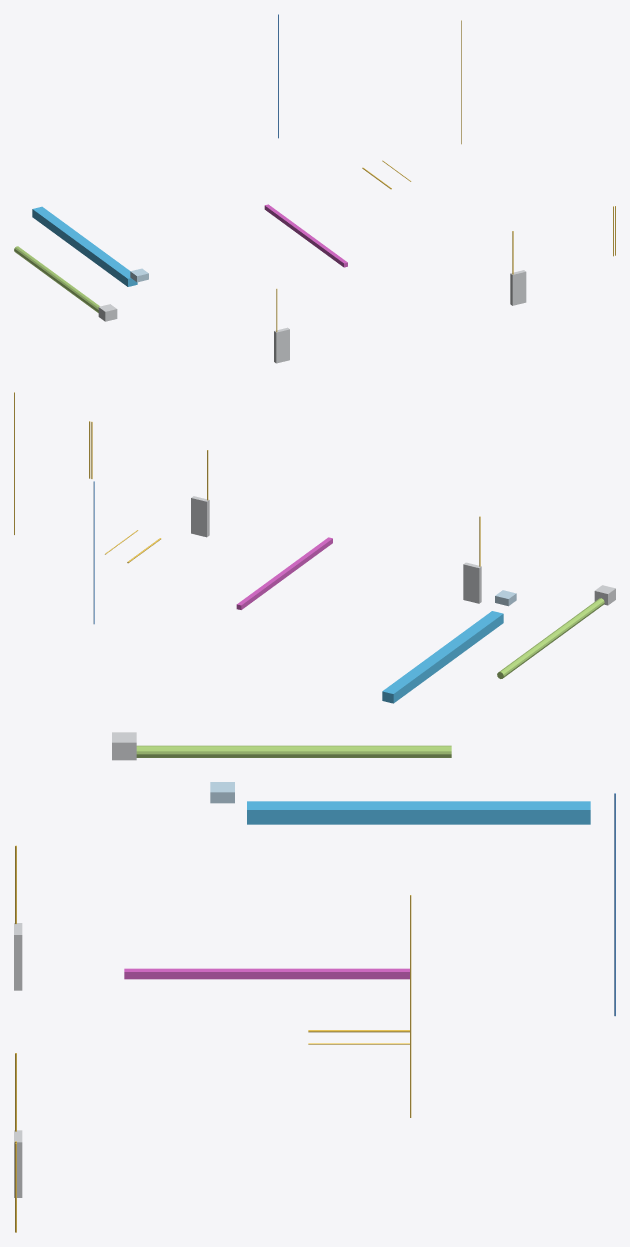
File: building-mep-full.glb
The picture shows the model from 3 angles, top to bottom: view 1: azimuth 30°, elevation 25°; view 2: azimuth 150°, elevation 25°; view 3: azimuth 270°, elevation 25°; orthographic projection. The views are drawn at different scales.
Visible parts, largest first — view 1: duct_2, duct, pipe, equipment_PU_2, equipment_PU_1; view 2: duct_2, duct, pipe, equipment_PU_1, equipment_PU_2; view 3: duct_2, duct, pipe, equipment_EF_1.
Part boxes in pixels (<box>): duct_2: <box>32,206,137,286</box>; duct: <box>14,246,99,312</box>; pipe: <box>264,204,347,267</box>; equipment_PU_2: <box>510,270,526,305</box>; equipment_PU_1: <box>274,327,289,363</box>; duct_2: <box>382,611,503,703</box>; duct: <box>497,598,604,678</box>; pipe: <box>236,537,332,609</box>; equipment_PU_1: <box>463,562,481,603</box>; equipment_PU_2: <box>191,496,209,537</box>; duct_2: <box>247,801,590,824</box>; duct: <box>136,745,451,757</box>; pipe: <box>124,968,409,979</box>; equipment_EF_1: <box>112,732,136,760</box>.
Size of the model in its own units: 12.49 by 4.69 by 7.48.
